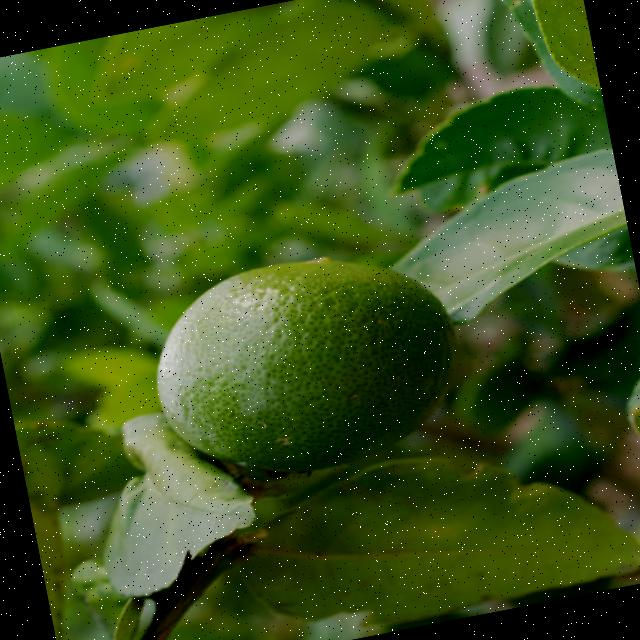Unripe: (136, 230, 478, 499)
